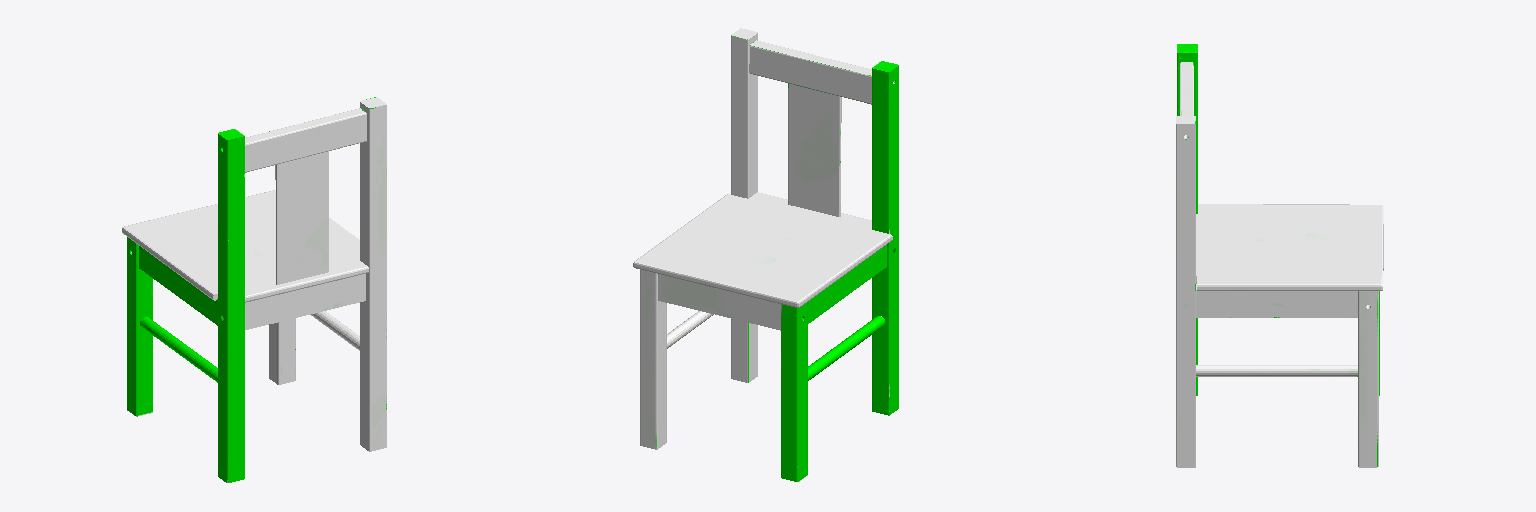
3 views of the same model, side by side, from view 1: azimuth 30°, elevation 25°; view 2: azimuth 150°, elevation 25°; view 3: azimuth 270°, elevation 25° (orthographic).
Visible parts, largest first — view 1: left_bakben; view 2: left_bakben; view 3: left_bakben.
Part boxes in pixels (x1,y1,x2,y2): left_bakben: (122,97,386,482); left_bakben: (633,28,898,481); left_bakben: (1176,44,1383,467).
Size of the model in its own units: 10.68 by 21.09 by 11.52.
Materials: 1 (1 with a texture image).